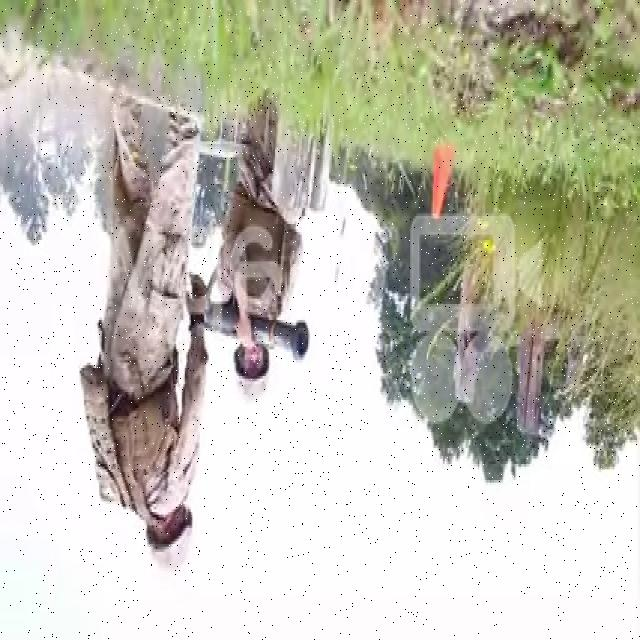bazooka: (207, 301, 315, 368)
